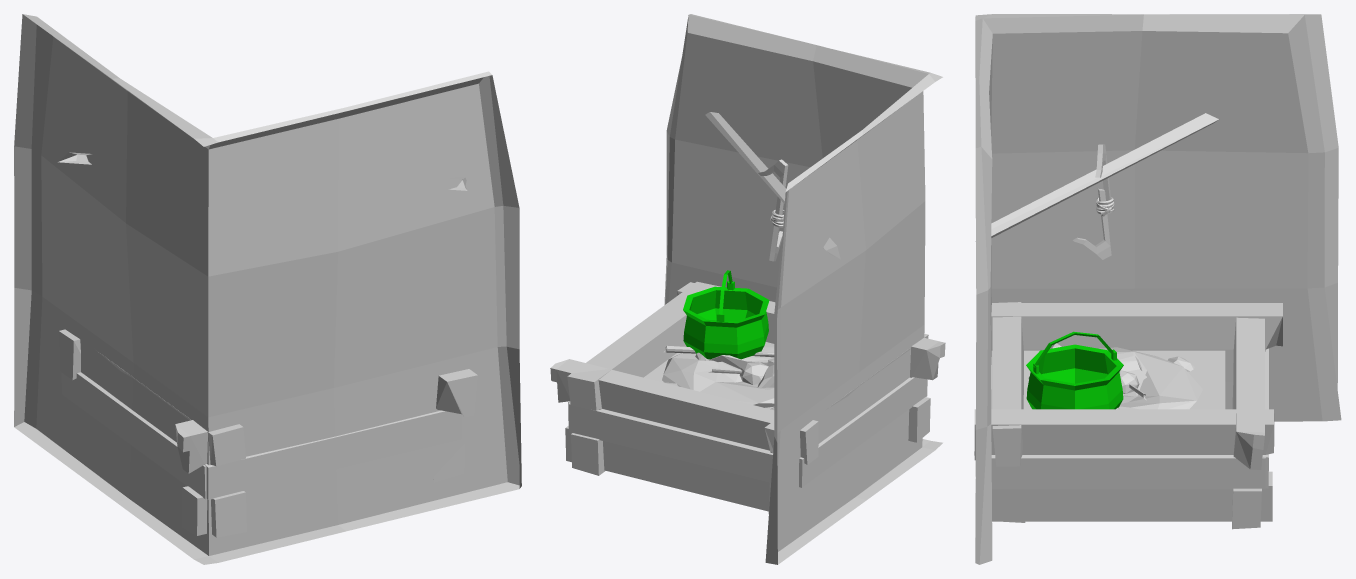
Rendered from EA03_Prop_House_Stove_01a.fbx.
3 views of the same model, side by side, from view 1: azimuth 30°, elevation 25°; view 2: azimuth 150°, elevation 25°; view 3: azimuth 270°, elevation 25° (orthographic). The views are drawn at different scales.
Parts seen in each view (by area): view 1: EA03_Prop_House_Stove_01a_LOD0; view 2: EA03_Prop_House_Stove_01a_LOD0; view 3: EA03_Prop_House_Stove_01a_LOD0.
Boxes of the visible parts, x1,y1,x2,y2 form: EA03_Prop_House_Stove_01a_LOD0: [14, 14, 521, 564]; EA03_Prop_House_Stove_01a_LOD0: [550, 14, 945, 564]; EA03_Prop_House_Stove_01a_LOD0: [974, 14, 1341, 564].
Size of what is drawn, in the model's own units: 2.76 by 3.33 by 2.74.
